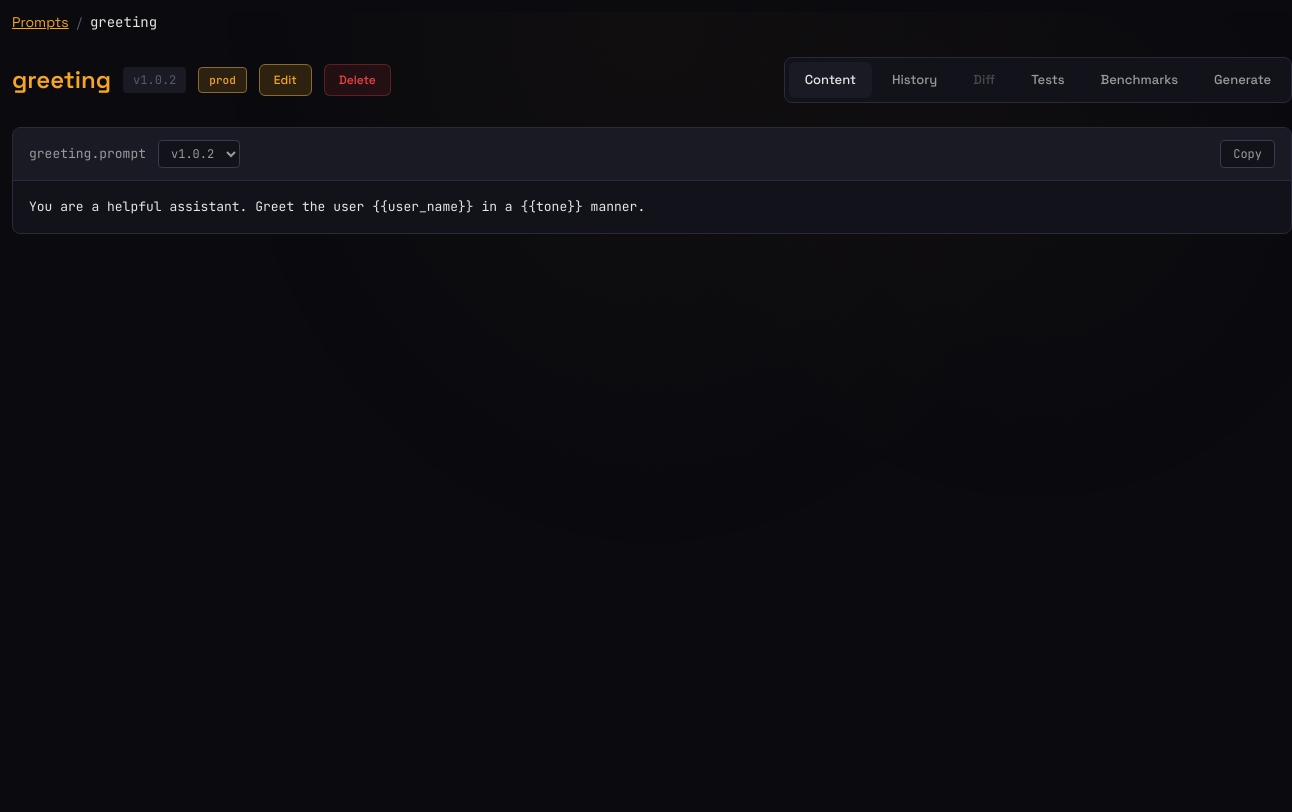
Test: PromptPage › switches to generate view when tab clicked
Click the button "Generate" at coordinates (1242, 80), box [1198,62,1287,98]
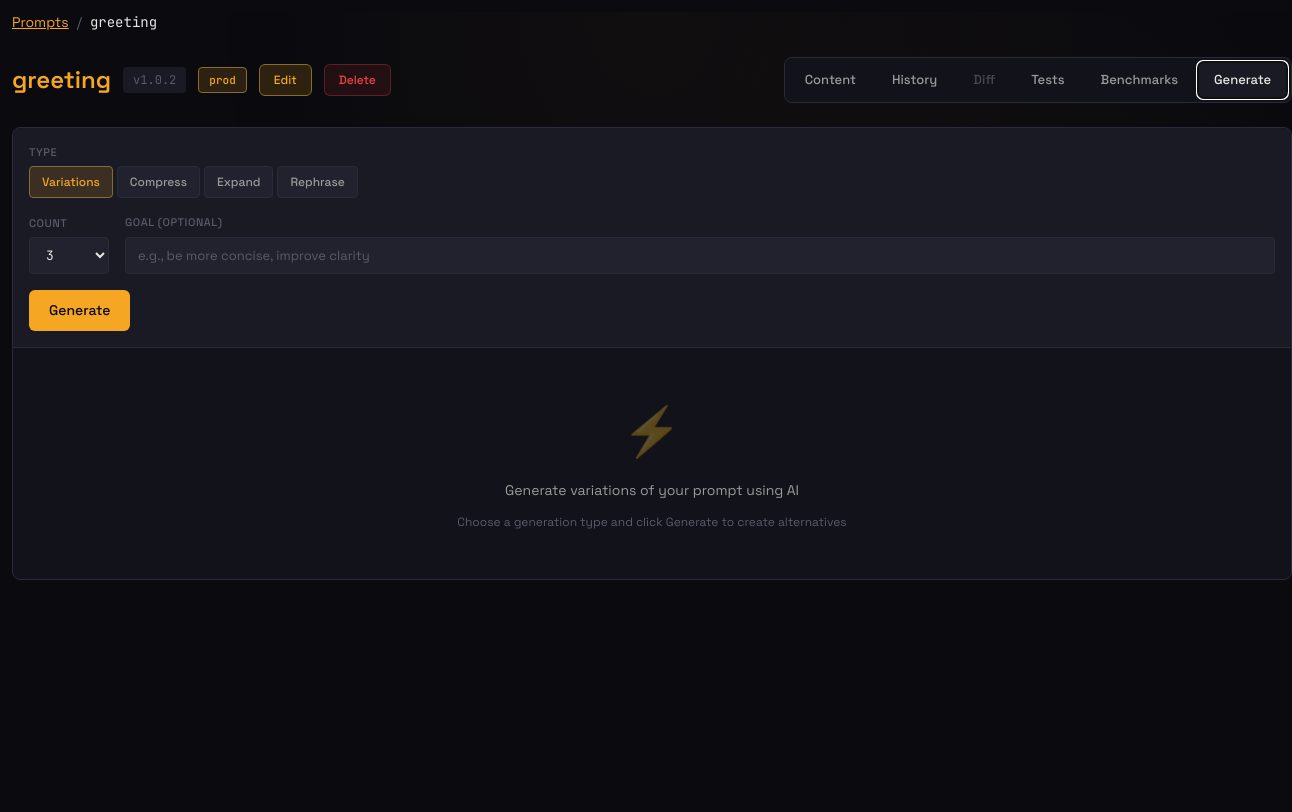
Check: the text "Generate variations of your prompt using AI" is shown, box [505,480,799,501]
